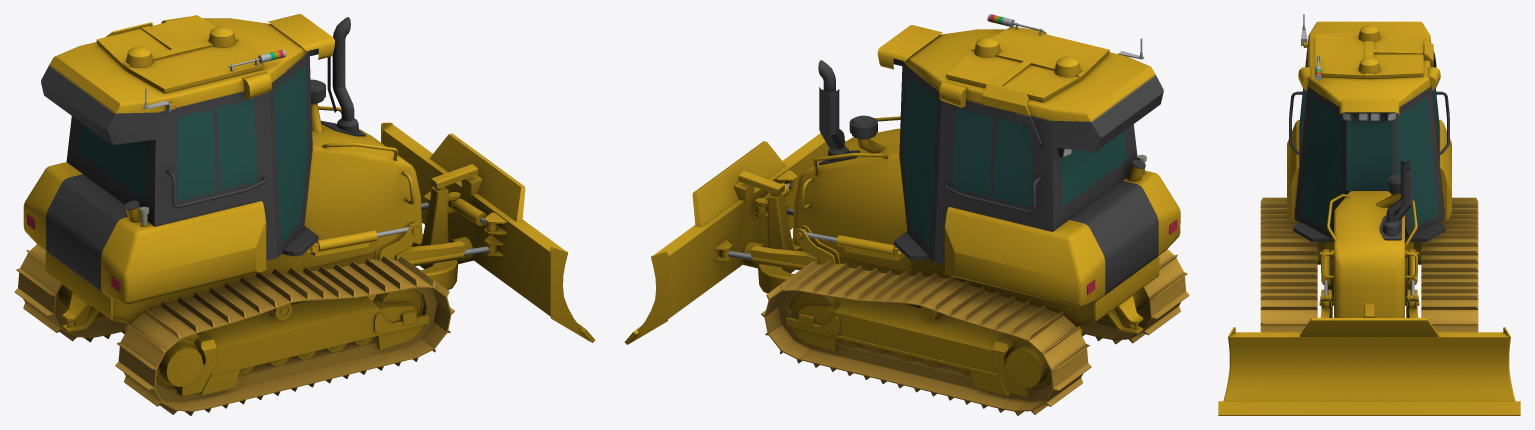
The model's file is opera_d37pxi.glb.
3 renders of one model, left to right at view 1: azimuth 30°, elevation 25°; view 2: azimuth 150°, elevation 25°; view 3: azimuth 270°, elevation 25°, orthographic. The views are drawn at different scales.
Visible parts, largest first — view 1: body_link/Cube_009-mesh/Cube_009-mesh, blade_link/Cube_016-mesh/Cube_016-mesh, blade_arm_link/Plane_005-mesh/Plane_005-mesh, blade_arm_cylinder_link/Cylinder_003-mesh/Cylinder_003-mesh; view 2: body_link/Cube_009-mesh/Cube_009-mesh, blade_link/Cube_016-mesh/Cube_016-mesh, blade_arm_link/Plane_005-mesh/Plane_005-mesh, blade_arm_cylinder_link/Cylinder_003-mesh/Cylinder_003-mesh; view 3: body_link/Cube_009-mesh/Cube_009-mesh, blade_link/Cube_016-mesh/Cube_016-mesh, blade_arm_link/Plane_005-mesh/Plane_005-mesh, blade_arm_cylinder_link/Cylinder_003-mesh/Cylinder_003-mesh.
Part boxes in pixels (<box>): body_link/Cube_009-mesh/Cube_009-mesh: <box>14,14,454,415</box>; blade_link/Cube_016-mesh/Cube_016-mesh: <box>381,122,594,342</box>; blade_arm_link/Plane_005-mesh/Plane_005-mesh: <box>367,164,478,300</box>; blade_arm_cylinder_link/Cylinder_003-mesh/Cylinder_003-mesh: <box>306,230,377,256</box>; body_link/Cube_009-mesh/Cube_009-mesh: <box>761,14,1189,415</box>; blade_link/Cube_016-mesh/Cube_016-mesh: <box>624,133,829,344</box>; blade_arm_link/Plane_005-mesh/Plane_005-mesh: <box>738,171,904,304</box>; blade_arm_cylinder_link/Cylinder_003-mesh/Cylinder_003-mesh: <box>836,235,905,260</box>; body_link/Cube_009-mesh/Cube_009-mesh: <box>1260,14,1478,332</box>; blade_link/Cube_016-mesh/Cube_016-mesh: <box>1218,318,1520,415</box>; blade_arm_link/Plane_005-mesh/Plane_005-mesh: <box>1319,289,1419,317</box>; blade_arm_cylinder_link/Cylinder_003-mesh/Cylinder_003-mesh: <box>1320,249,1418,284</box>.
Bounding box in the file's own units: 4.27 × 2.96 × 3.21.
Materials: 1 (1 with a texture image).
